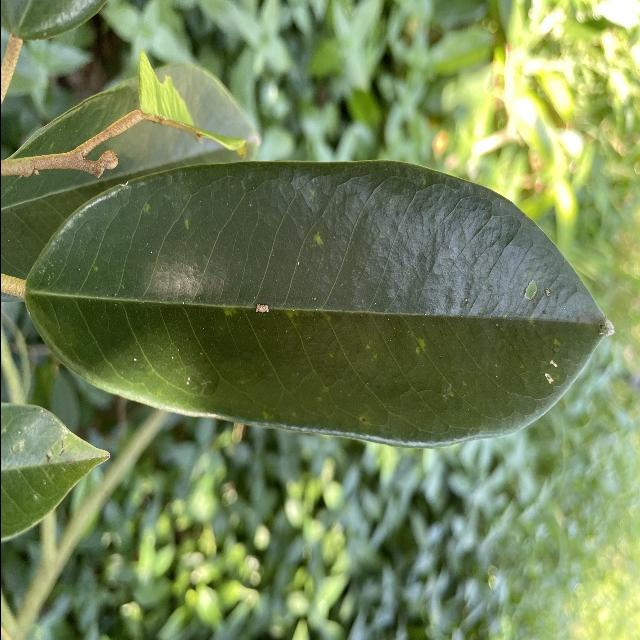No Disease: (13, 145, 621, 465)
